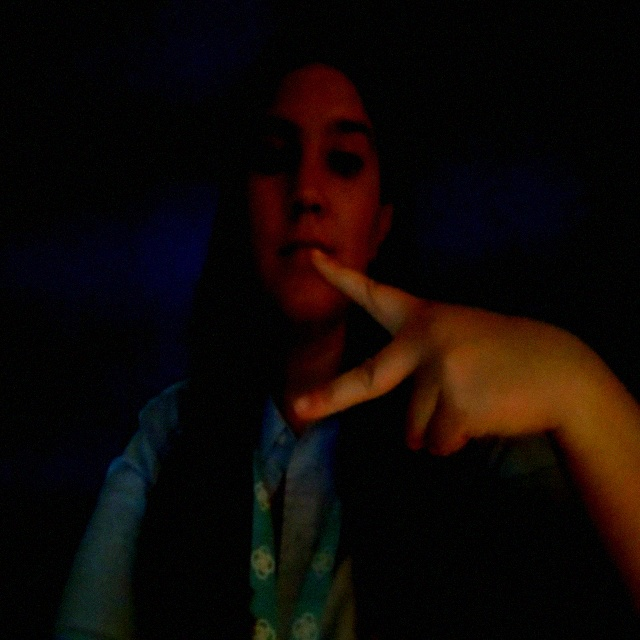Scissors: (300, 252, 474, 443)
